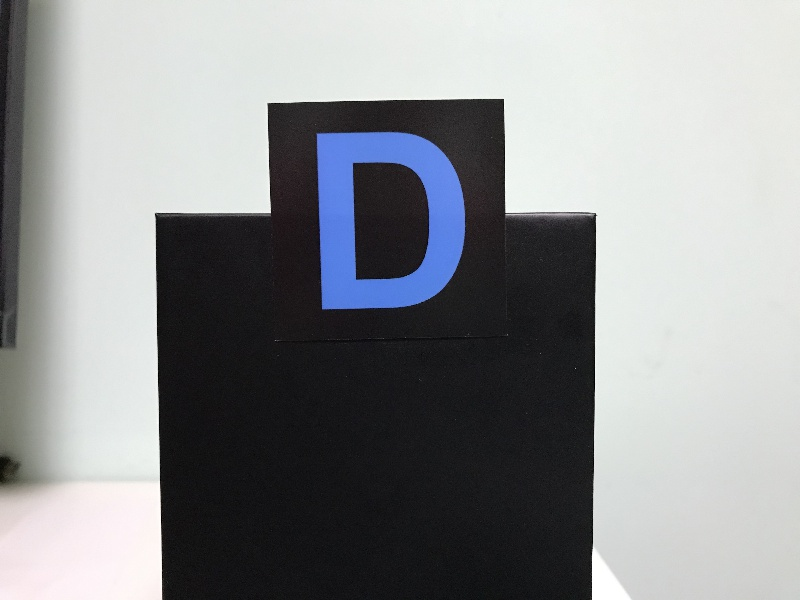D-14: (278, 106, 502, 332)
